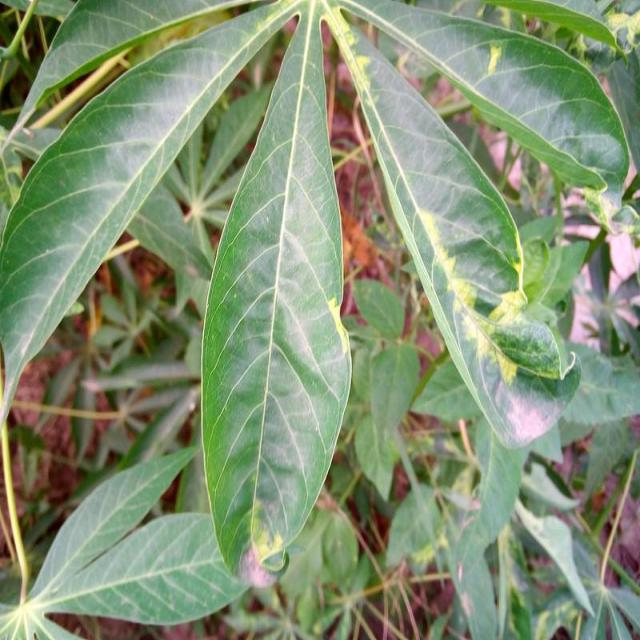cassava leaf: (326, 7, 583, 450), (199, 3, 353, 577)
